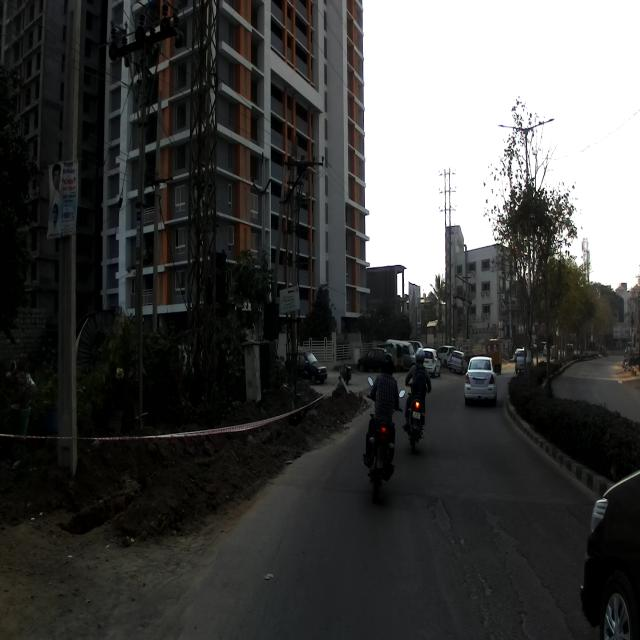electric pole ahead at: (47, 0, 90, 486)
